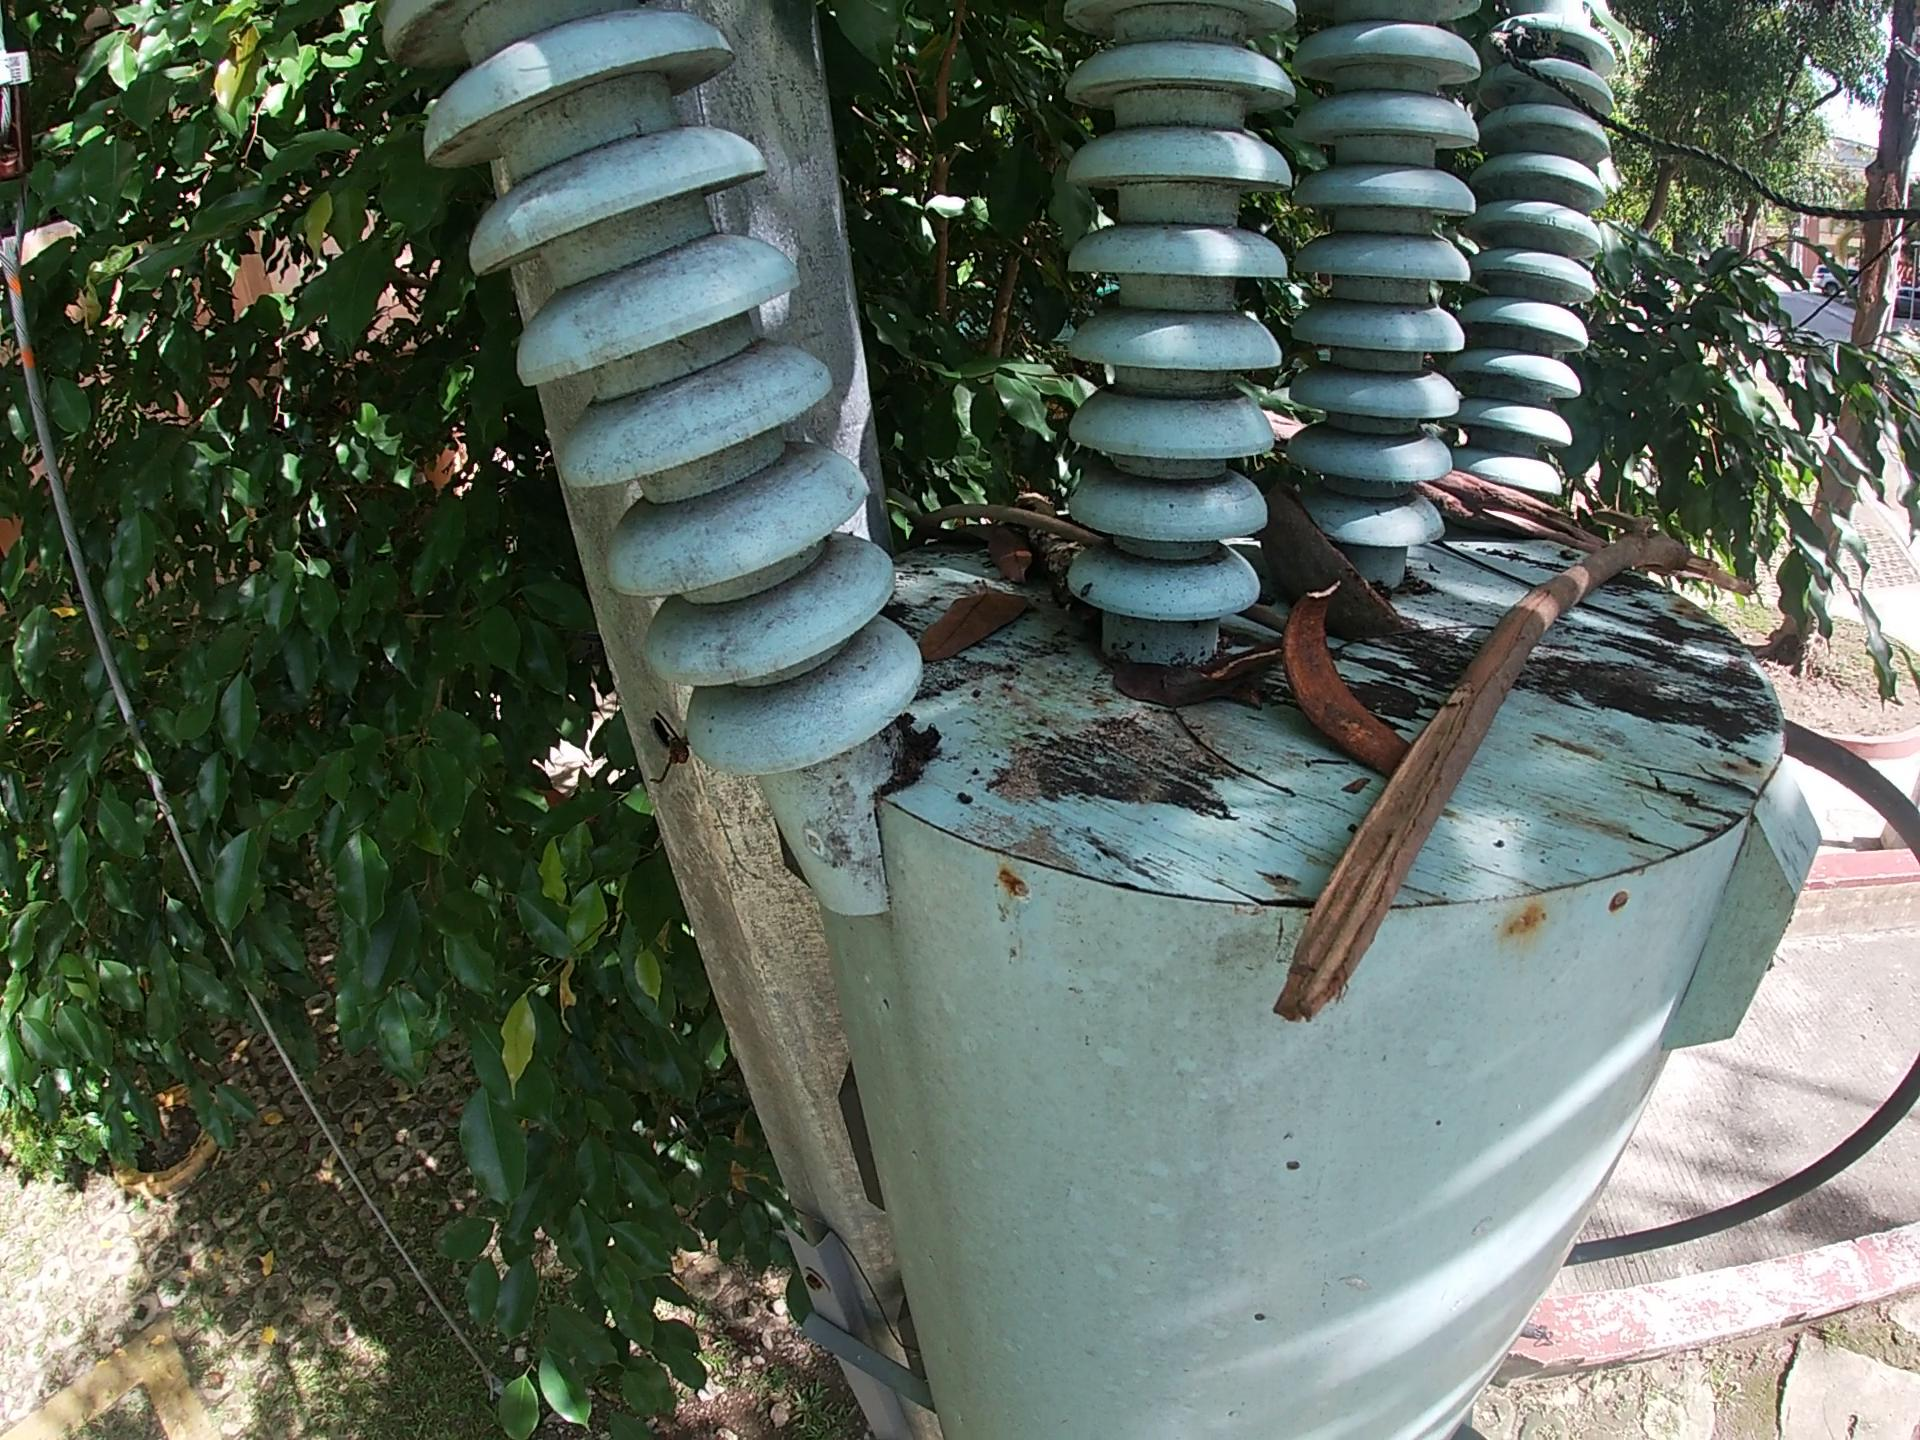leaf: (918, 561, 1070, 664), (1116, 656, 1181, 697)
mahogany fruit: (1259, 493, 1426, 658), (1284, 588, 1423, 784)
tree branch: (1259, 529, 1779, 1042), (1426, 542, 1710, 641), (1157, 697, 1309, 815), (1435, 476, 1615, 548), (1008, 479, 1089, 607), (921, 505, 1102, 542), (1191, 659, 1284, 708), (1247, 396, 1309, 443), (1234, 607, 1290, 635)
